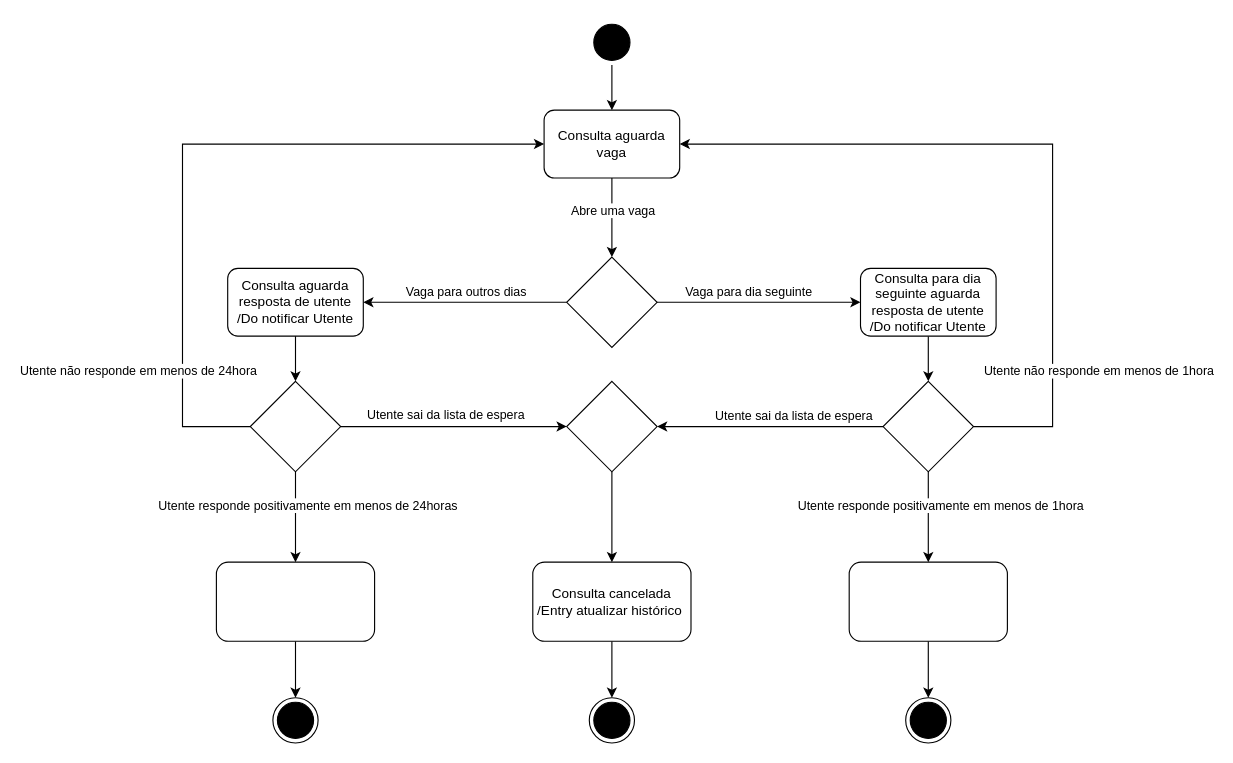
Some shapes in this 1233 by 763 pixel diagram are drawn without their labels. Each missing label, with the centre of its shape:
Consulta do dia seguinte marcada /Entry atualizar histórico: the point at 927,601
Consulta marcada /Entry atualizar histórico: the point at 295,601
